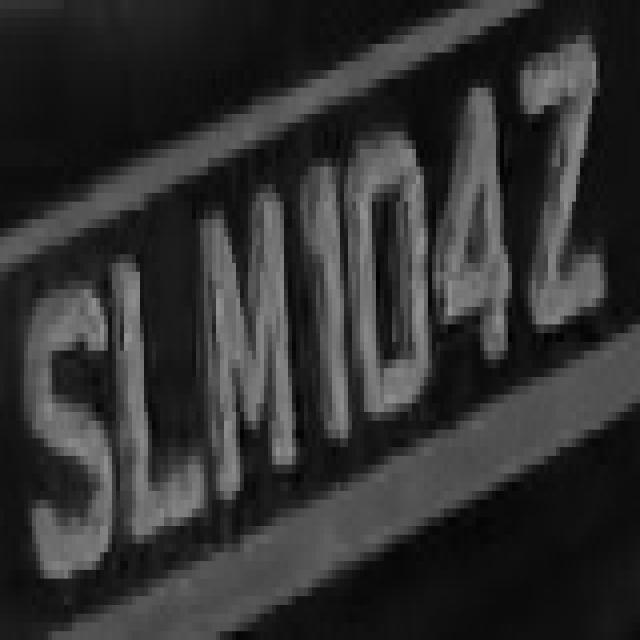0: (348, 123, 428, 473)
1: (292, 149, 352, 447)
4: (432, 88, 516, 377)
L: (108, 202, 204, 544)
M: (192, 175, 296, 500)
S: (16, 236, 112, 614)
Z: (512, 62, 628, 360)
